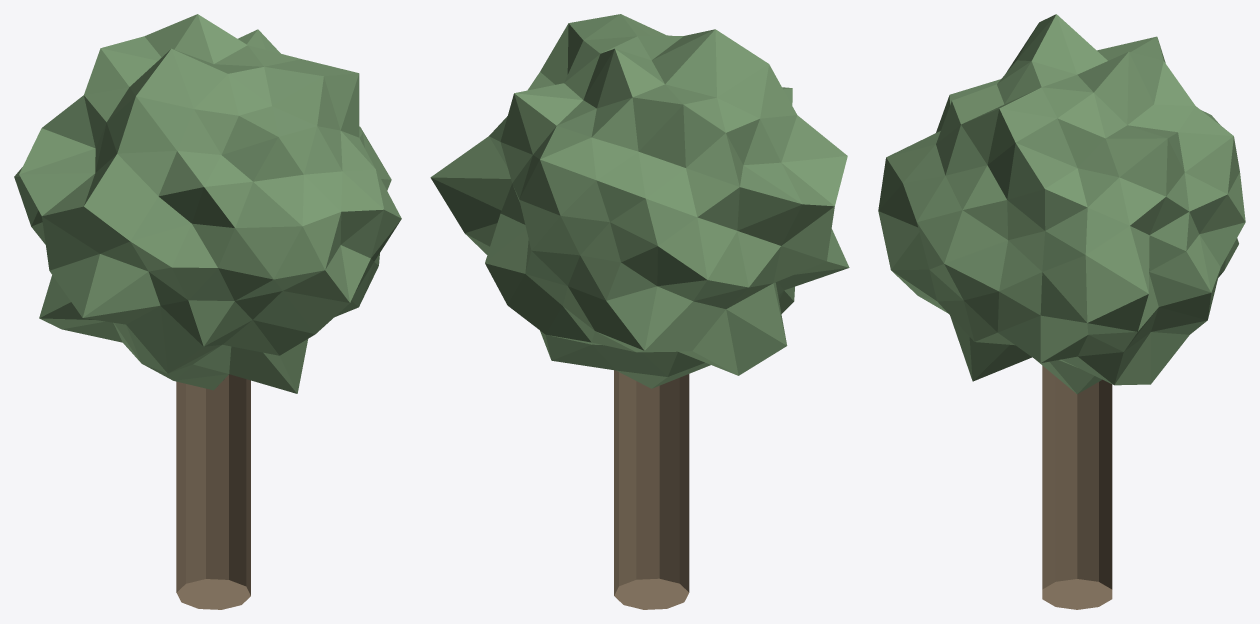
Rendered from tree_small_01.glb.
3 views of the same model, side by side, from view 1: azimuth 30°, elevation 25°; view 2: azimuth 150°, elevation 25°; view 3: azimuth 270°, elevation 25° (orthographic). The views are drawn at different scales.
Visible parts, largest first — view 1: world; view 2: world; view 3: world.
Boxes of the visible parts, x1,y1,x2,y2 form: world: [14, 14, 401, 609]; world: [430, 14, 849, 609]; world: [878, 14, 1245, 609].
Bounding box in the file's own units: 1.33 × 2 × 1.2.
